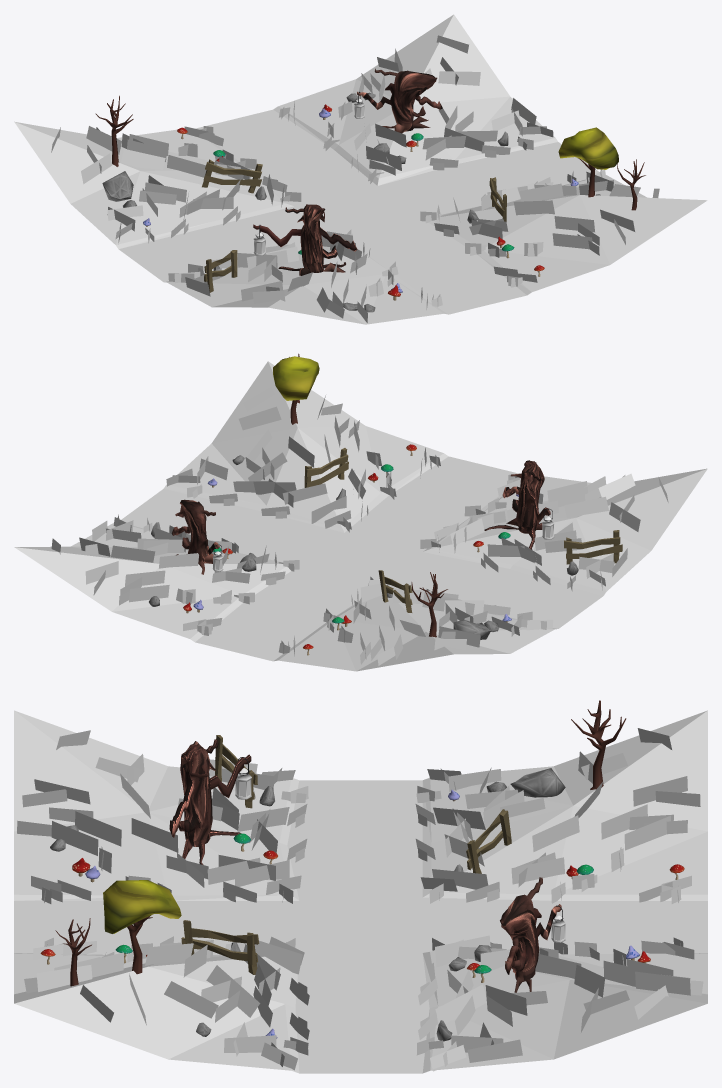
The model's file is environment4 (1).fbx.
The picture shows the model from 3 angles, top to bottom: view 1: azimuth 30°, elevation 25°; view 2: azimuth 150°, elevation 25°; view 3: azimuth 270°, elevation 25°; orthographic projection. The views are drawn at different scales.
Parts seen in each view (by area): view 1: Plane.027, Cylinder.030, Cylinder.031, Sphere.005, LowPolyFence_02.004, Plane.130, LowPolyFence_02.007, Plane.1644, Plane.131, Plane.1810, Plane.139, Plane.1752 (+2 smaller); view 2: Plane.027, Cylinder.030, Cylinder.031, Sphere.005, LowPolyFence_02.007, LowPolyFence_02.006, Plane.1807, LowPolyFence_02.004, Plane.1828, Plane.131, Plane.1620, Plane.110 (+2 smaller); view 3: Plane.027, Cylinder.030, Cylinder.031, Sphere.005, LowPolyFence_02.006, LowPolyFence_02.004, Plane.130, Plane.131, Plane.158, Plane.1839, Plane.1851, Plane.1830 (+27 smaller).
Part boxes in pixels (x1,y1,x2,y2): Plane.027: [14, 14, 707, 324]; Cylinder.030: [253, 204, 357, 275]; Cylinder.031: [357, 68, 442, 133]; Sphere.005: [558, 127, 618, 169]; LowPolyFence_02.004: [202, 159, 262, 193]; Plane.130: [102, 171, 133, 201]; LowPolyFence_02.007: [204, 250, 237, 292]; Plane.1644: [121, 149, 165, 169]; Plane.131: [95, 95, 133, 166]; Plane.1810: [519, 183, 563, 201]; Plane.139: [438, 71, 480, 85]; Plane.1752: [513, 200, 554, 215]; Plane.027: [14, 361, 707, 671]; Cylinder.030: [484, 460, 550, 549]; Cylinder.031: [171, 499, 219, 574]; Sphere.005: [273, 356, 319, 400]; LowPolyFence_02.007: [564, 530, 622, 564]; LowPolyFence_02.006: [304, 448, 348, 487]; Plane.1807: [564, 496, 608, 518]; LowPolyFence_02.004: [378, 570, 412, 612]; Plane.1828: [238, 406, 281, 430]; Plane.131: [411, 572, 447, 637]; Plane.1620: [111, 545, 155, 562]; Plane.110: [129, 585, 169, 602]; Plane.027: [14, 710, 707, 1073]; Cylinder.030: [169, 739, 251, 864]; Cylinder.031: [500, 877, 561, 992]; Sphere.005: [103, 880, 181, 933]; LowPolyFence_02.006: [181, 920, 259, 974]; LowPolyFence_02.004: [466, 809, 511, 873]; Plane.130: [510, 768, 565, 797]; Plane.131: [571, 700, 626, 789]; Plane.158: [635, 971, 690, 995]; Plane.1839: [36, 965, 92, 991]; Plane.1851: [206, 965, 260, 1017]; Plane.1830: [164, 981, 218, 1018].
Size of the model in its own units: 2250 by 531 by 2250.
